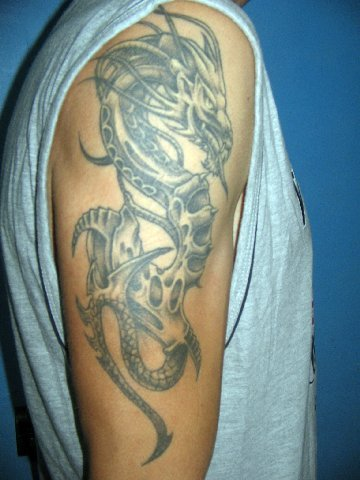tatu6_drakon: (58, 10, 236, 465)
